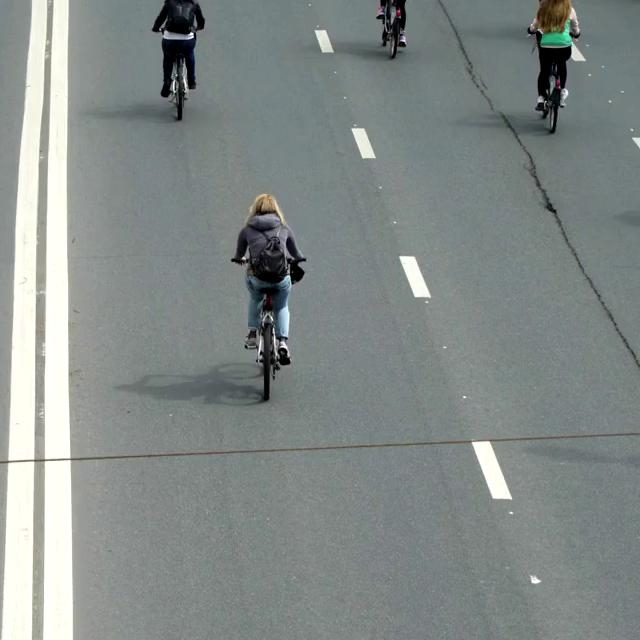bicycle: (230, 255, 306, 401), (526, 24, 579, 133), (151, 27, 201, 120), (376, 0, 406, 58)
